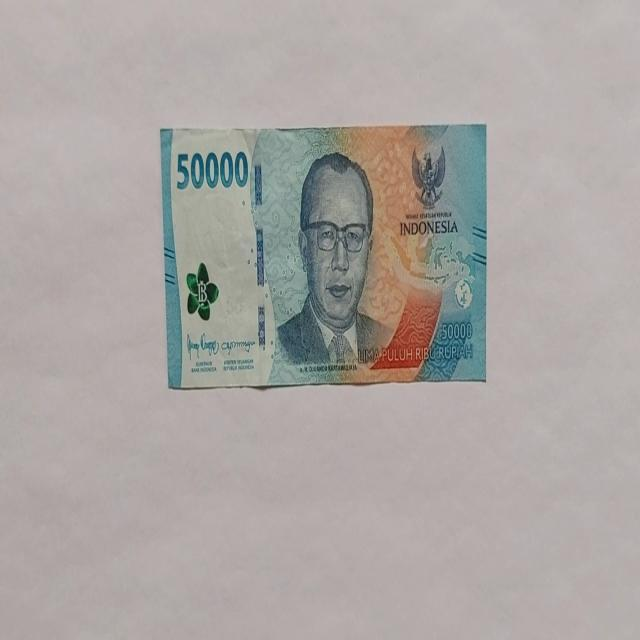lima puluh ribu rupiah: (160, 122, 487, 390), (272, 149, 395, 379)
